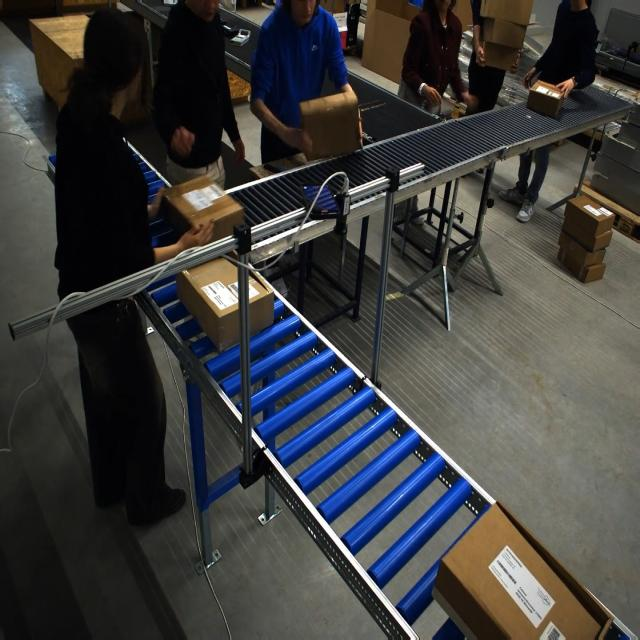box: (432, 500, 612, 639), (177, 255, 274, 351), (157, 176, 243, 249), (301, 91, 358, 161), (526, 80, 567, 119)
product: (230, 28, 251, 46), (221, 23, 240, 39), (218, 18, 227, 28)
